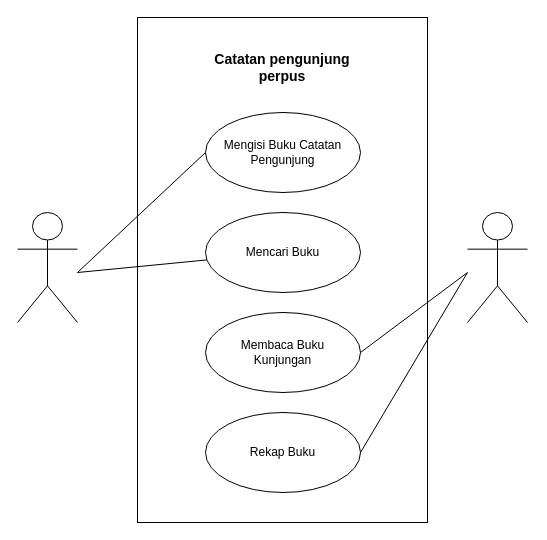
Image size: 547x540. Some labels were removed from this diagram. The box of each missing label's shape, as (x1, y1, x2, y2) in pixels:
Pustakawan: (466, 212, 528, 322)
User: (16, 212, 78, 322)
